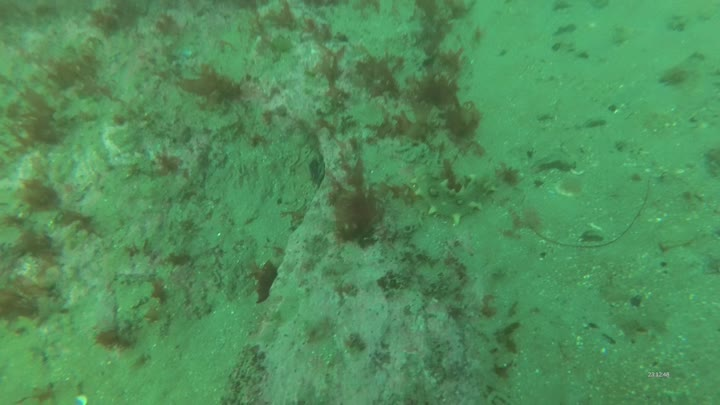holothurian: (409, 164, 504, 228)
